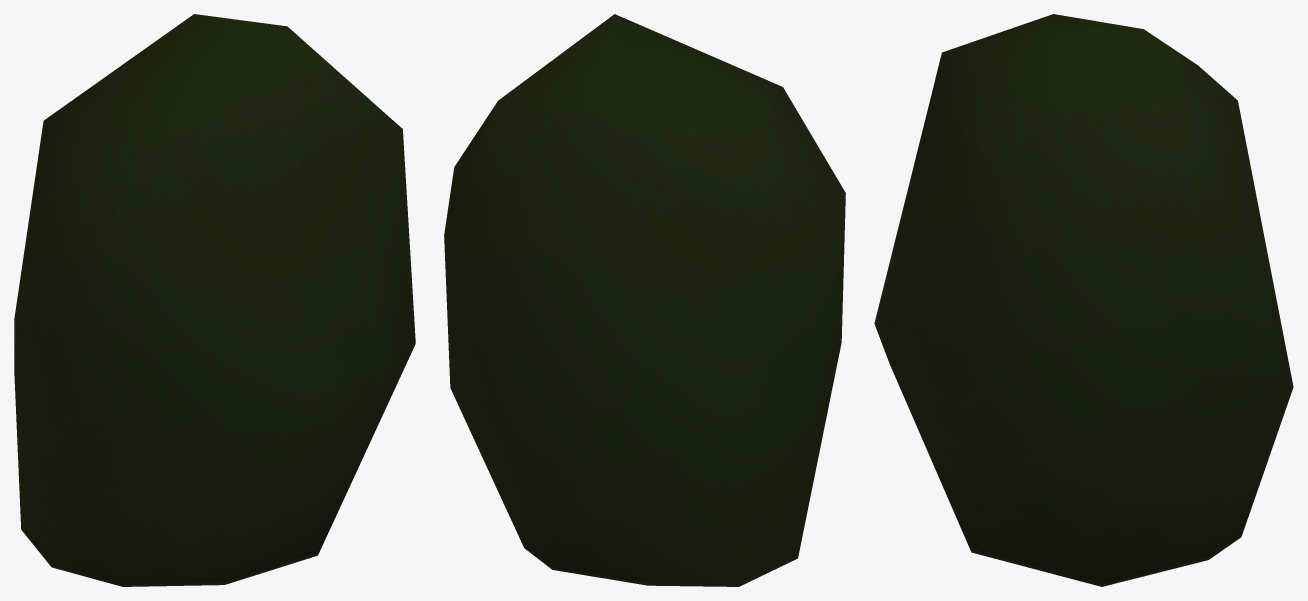
Rendered from bush_n.glb.
The picture shows the model from 3 angles, left to right: view 1: azimuth 30°, elevation 25°; view 2: azimuth 150°, elevation 25°; view 3: azimuth 270°, elevation 25°; orthographic projection. The views are drawn at different scales.
Parts seen in each view (by area): view 1: bush.002; view 2: bush.002; view 3: bush.002.
Part boxes in pixels (left/top/right/bottom): bush.002: left=14, top=14, right=415, bottom=586; bush.002: left=444, top=14, right=845, bottom=586; bush.002: left=874, top=14, right=1293, bottom=586.
Bounding box in the file's own units: 1.51 × 2.04 × 1.49.
Materials: 1 (1 with a texture image).
